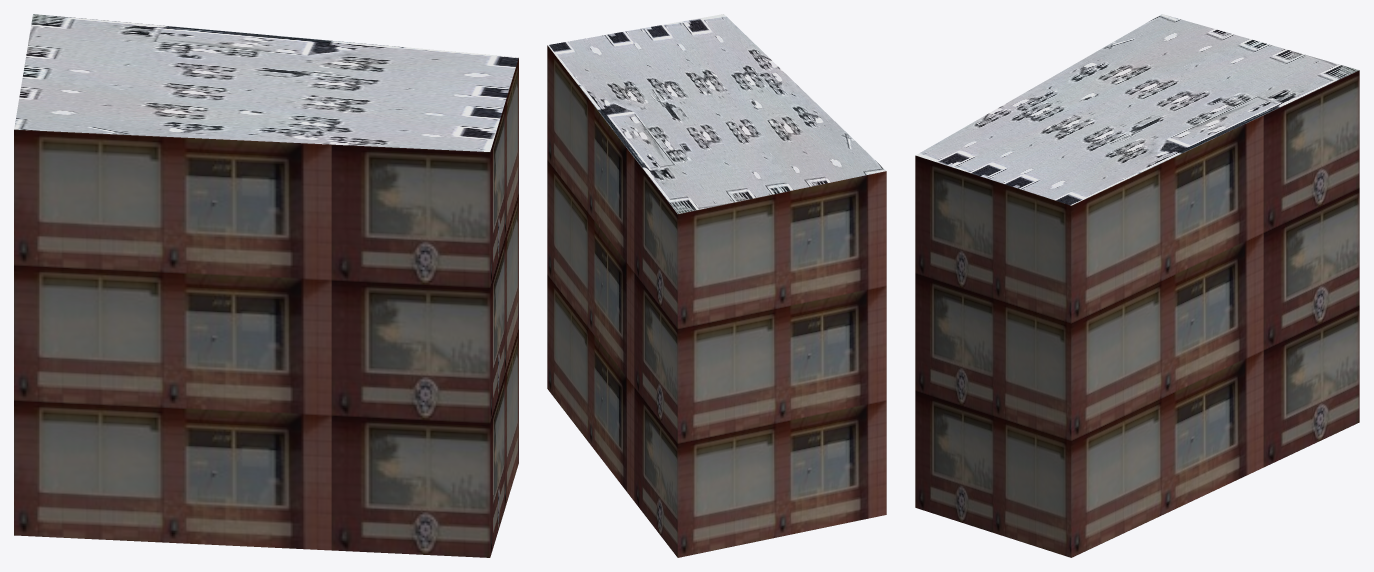
File: ResTex__4605.fbx
3 views of the same model, side by side, from view 1: azimuth 30°, elevation 25°; view 2: azimuth 150°, elevation 25°; view 3: azimuth 270°, elevation 25° (orthographic). The views are drawn at different scales.
Visible parts, largest first — view 1: CityEngineMaterial_13_m, CityEngineMaterial_8_m; view 2: CityEngineMaterial_13_m, CityEngineMaterial_8_m; view 3: CityEngineMaterial_13_m, CityEngineMaterial_8_m.
Part boxes in pixels (x1,y1,x2,y2): CityEngineMaterial_13_m: [14, 58, 518, 557]; CityEngineMaterial_8_m: [14, 14, 518, 151]; CityEngineMaterial_13_m: [547, 45, 886, 557]; CityEngineMaterial_8_m: [547, 14, 885, 213]; CityEngineMaterial_13_m: [915, 70, 1359, 557]; CityEngineMaterial_8_m: [915, 14, 1358, 205].
Bounding box in the file's own units: 10.5 × 9 × 10.28.
Materials: 2 (2 with a texture image).
